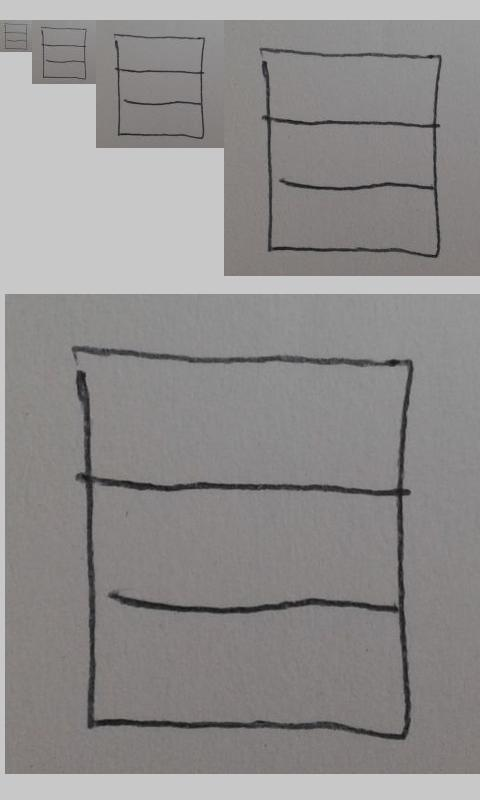list_view: (68, 341, 420, 745), (260, 48, 442, 262), (113, 33, 207, 142), (41, 25, 89, 80), (4, 23, 28, 50)
